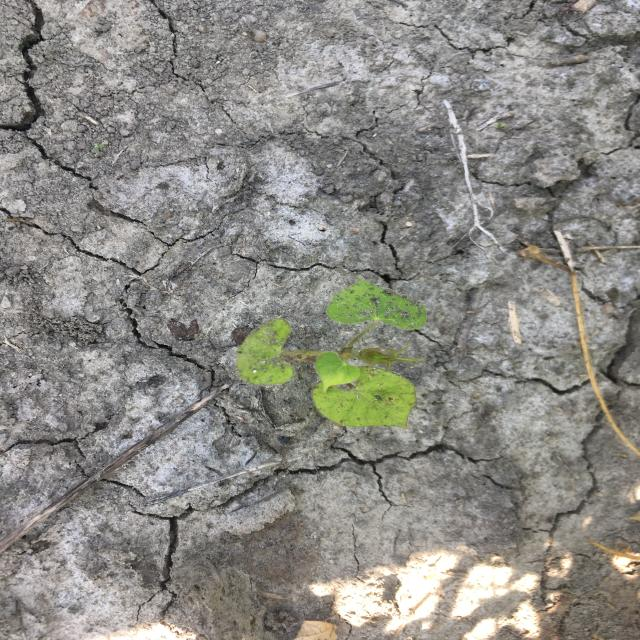MorningGlory: (234, 276, 430, 432)
